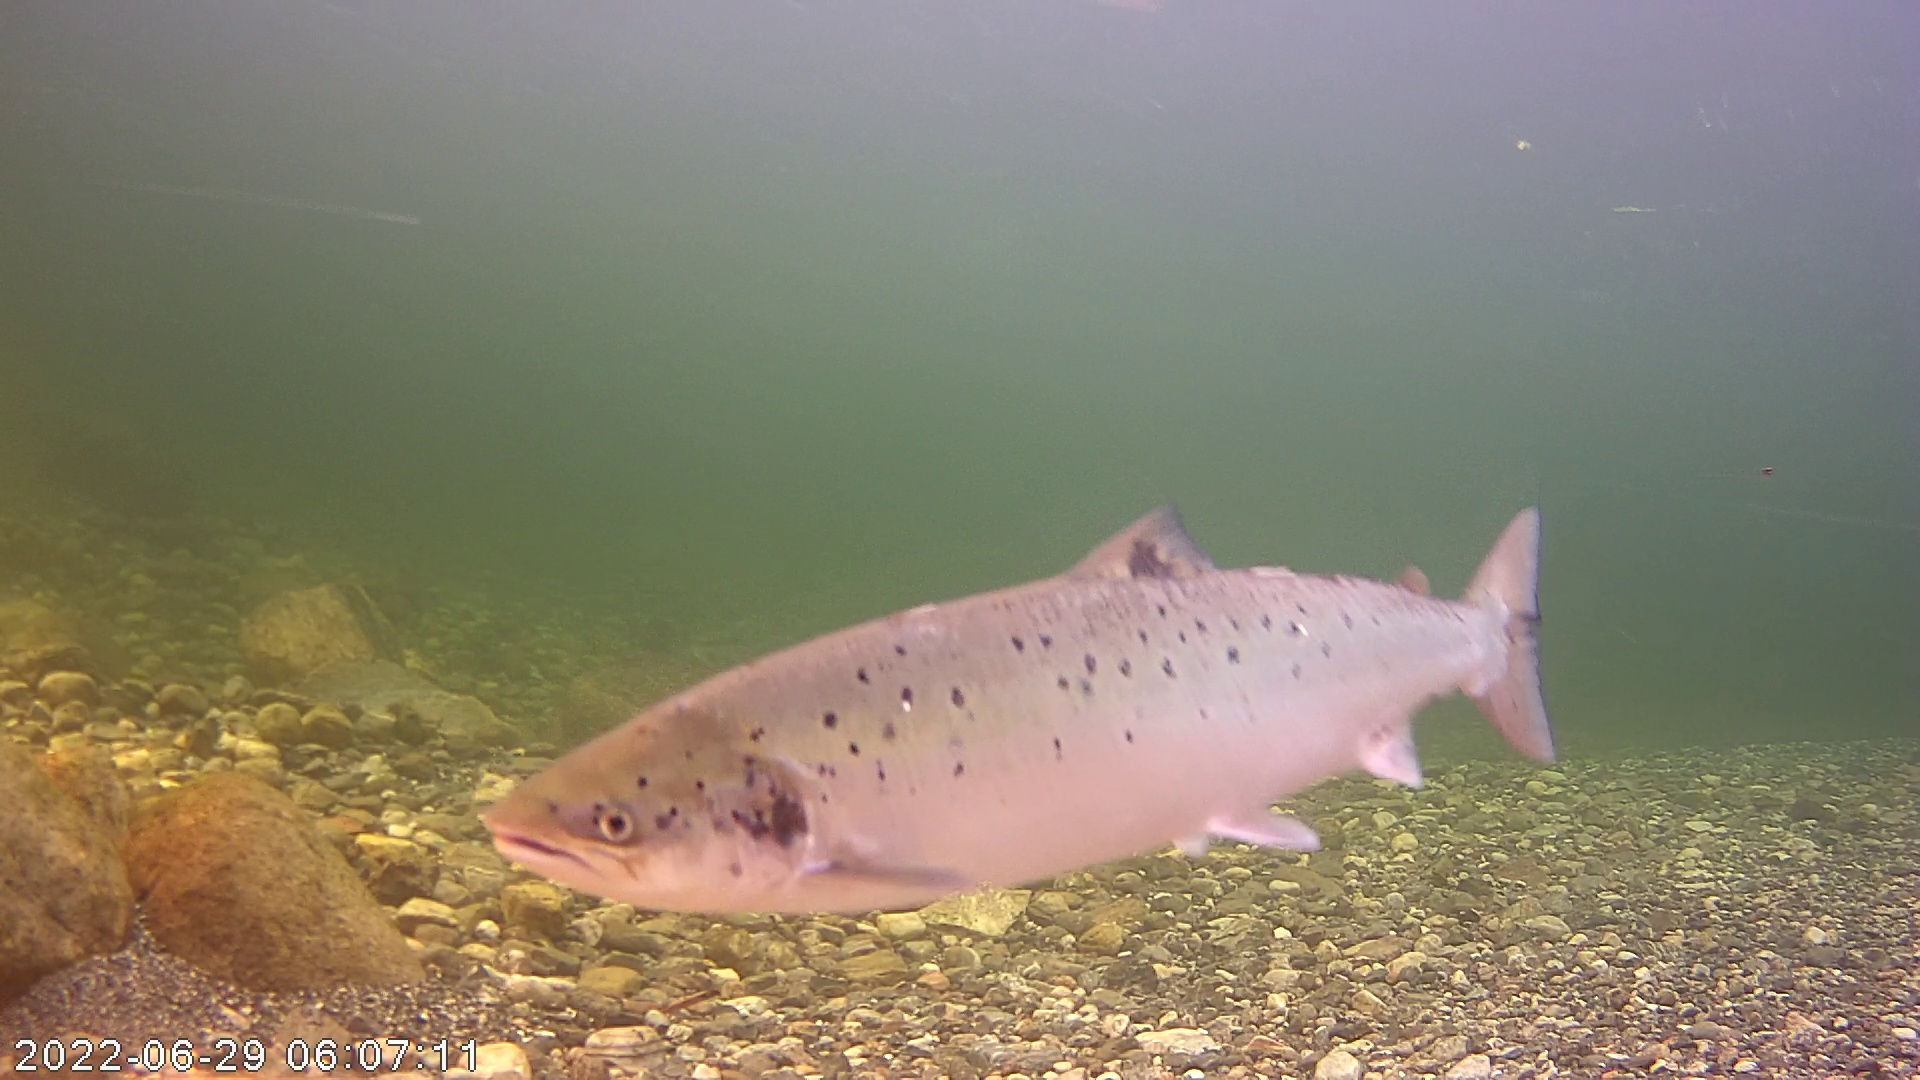salmon: (456, 436, 1556, 934)
